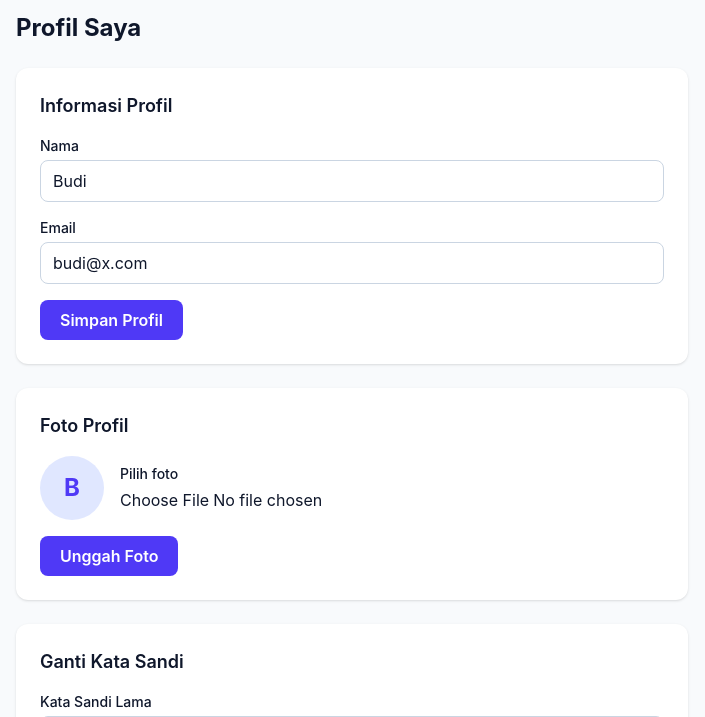
Test case: ProfilePage - ubah profil › menampilkan pesan error jika format email tidak valid
This screenshot has width=705, height=717.
Replace the text in the field labelled "Email" with "salah" at (352, 263), box [40,242,664,284]
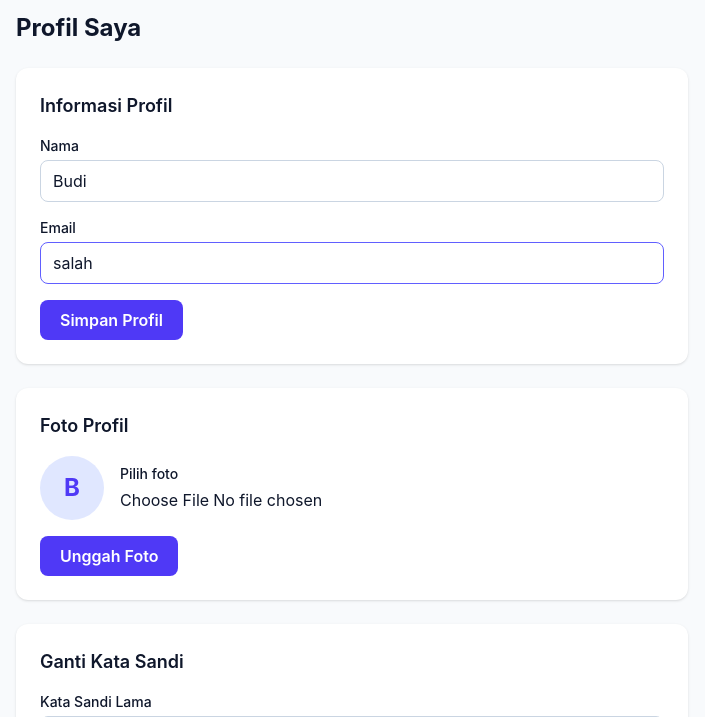
Click the button "Simpan Profil" at (111, 320), box [40,300,183,340]
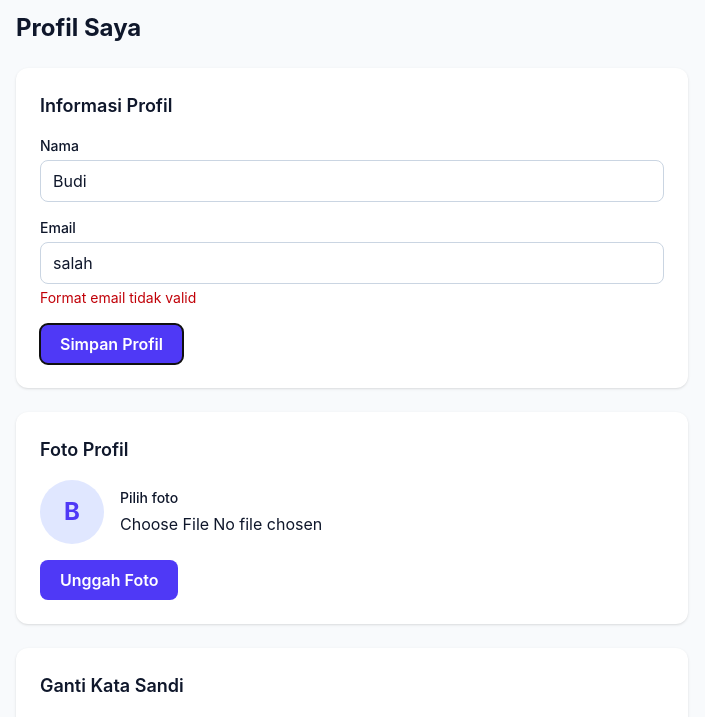
Expected: the text "Format email tidak valid" is shown, [40,289,196,306]
